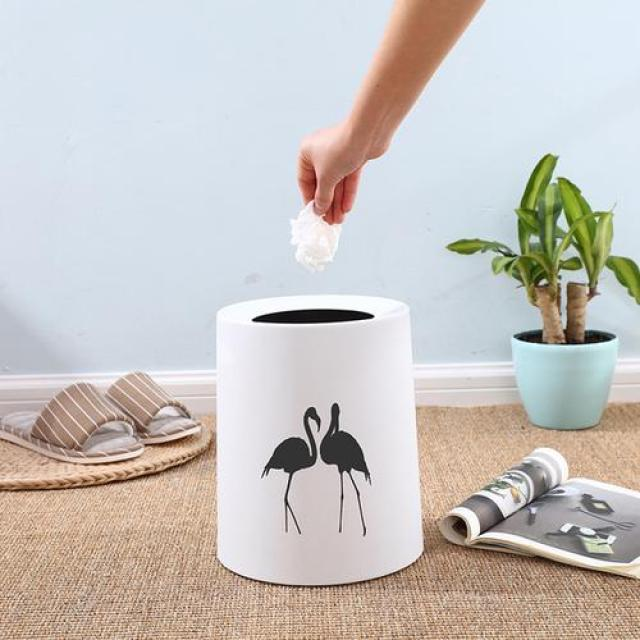crumpled_paper: (288, 196, 344, 275)
dustbin: (212, 291, 428, 589)
